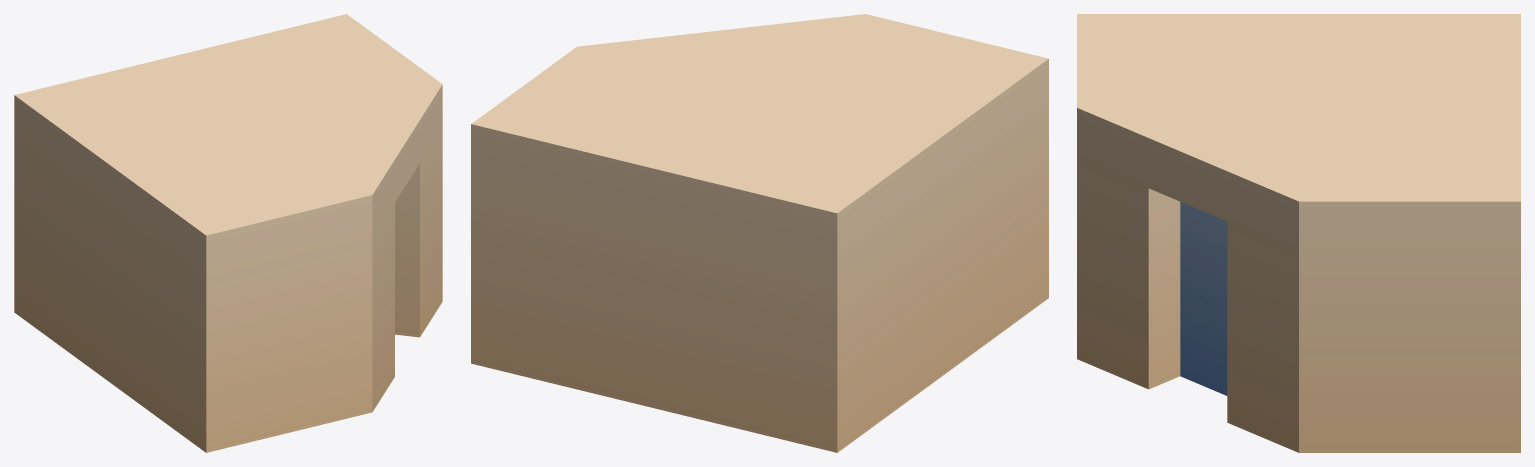
Rendered from building-corner-window-narrow.glb.
The picture shows the model from 3 angles, left to right: view 1: azimuth 30°, elevation 25°; view 2: azimuth 150°, elevation 25°; view 3: azimuth 270°, elevation 25°; orthographic projection. The views are drawn at different scales.
Visible parts, largest first — view 1: building-corner-window-narrow; view 2: building-corner-window-narrow; view 3: building-corner-window-narrow.
Boxes of the visible parts, x1,y1,x2,y2 form: building-corner-window-narrow: (14, 14, 442, 452); building-corner-window-narrow: (471, 14, 1048, 452); building-corner-window-narrow: (1077, 14, 1520, 452).
Bounding box in the file's own units: 1 × 0.625 × 1.
Materials: 1 (1 with a texture image).
